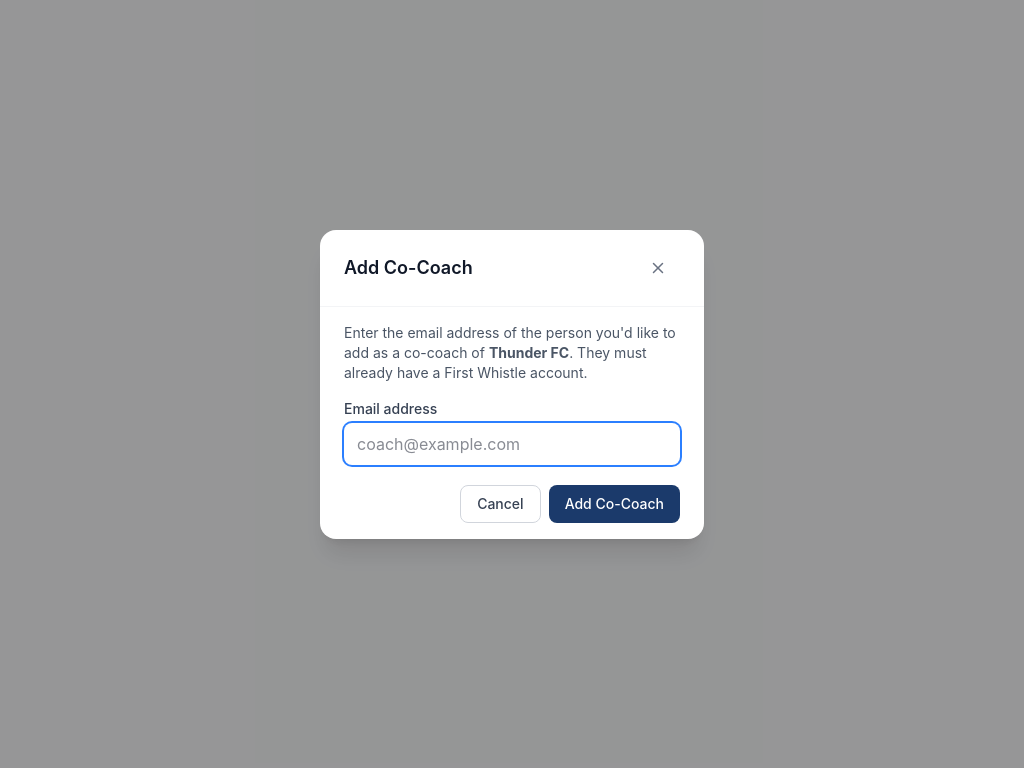
Test: AssignCoCoachModal — failed assignment › shows the error message when the Cloud Function rejects
Type "unknown@example.com" into the field at {"x": 512, "y": 444}, box top-left (344, 422), bottom-right (680, 464)
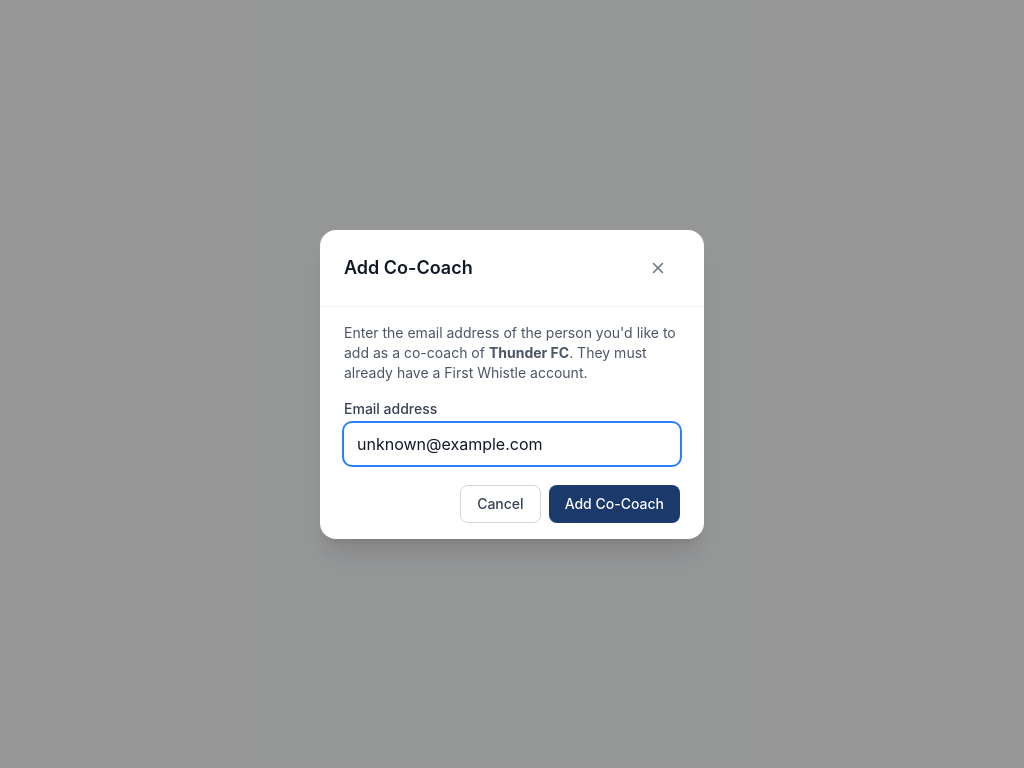
Click the button "Add Co-Coach" at {"x": 614, "y": 504}, box top-left (549, 484), bottom-right (680, 522)
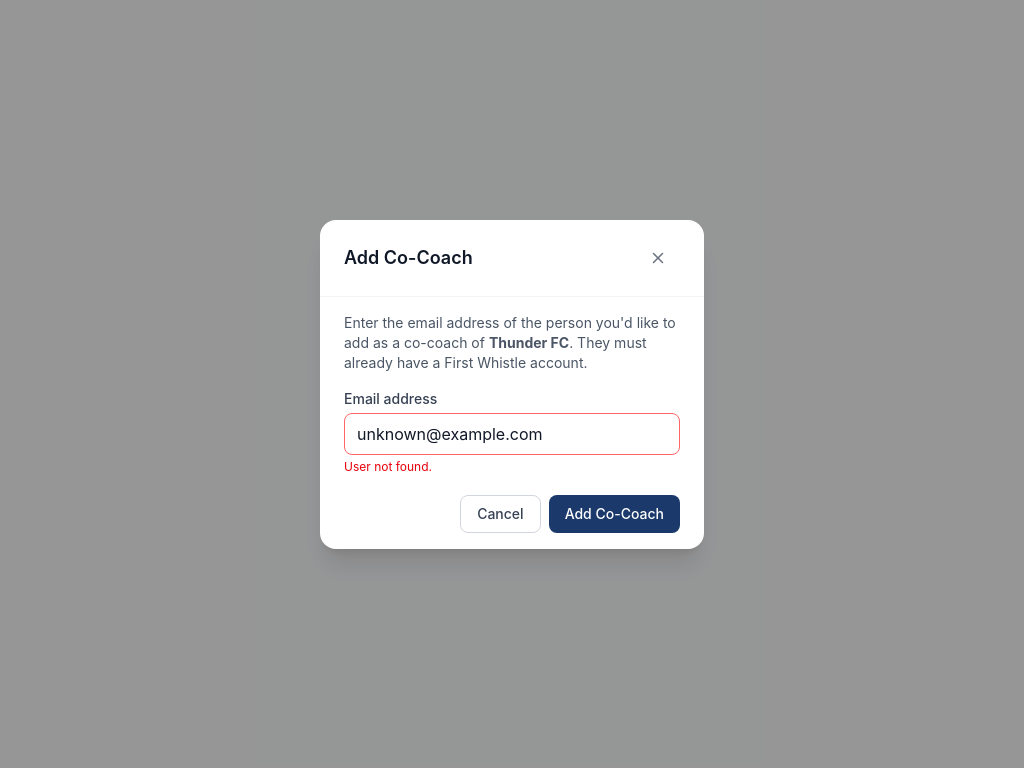
Result: the text "User not found." is shown at top-left (344, 458), bottom-right (432, 474)
